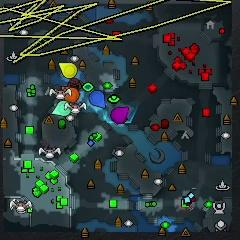p1: (90, 90, 106, 109)
p2: (52, 101, 71, 116)
p3: (111, 107, 129, 124)
p4: (59, 62, 77, 79)
p5: (64, 88, 80, 103)
